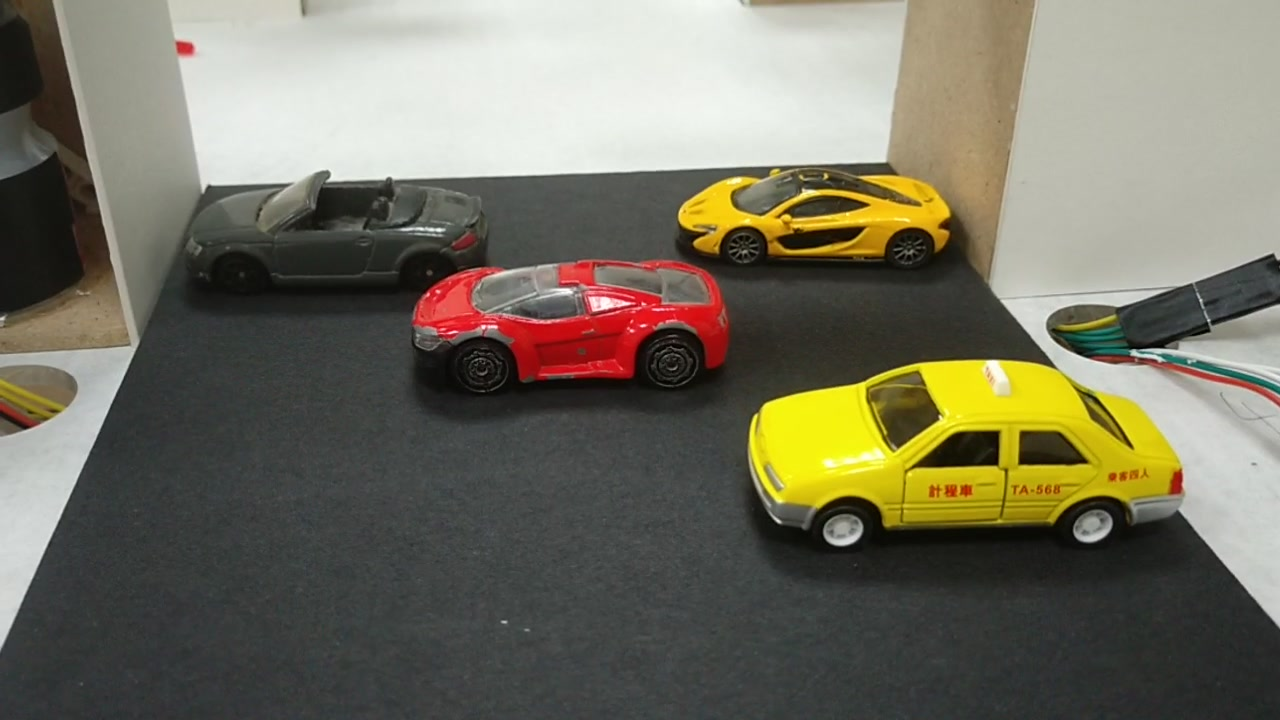car: (758, 380, 1188, 541), (415, 272, 728, 386), (191, 191, 483, 280), (678, 170, 952, 264)
